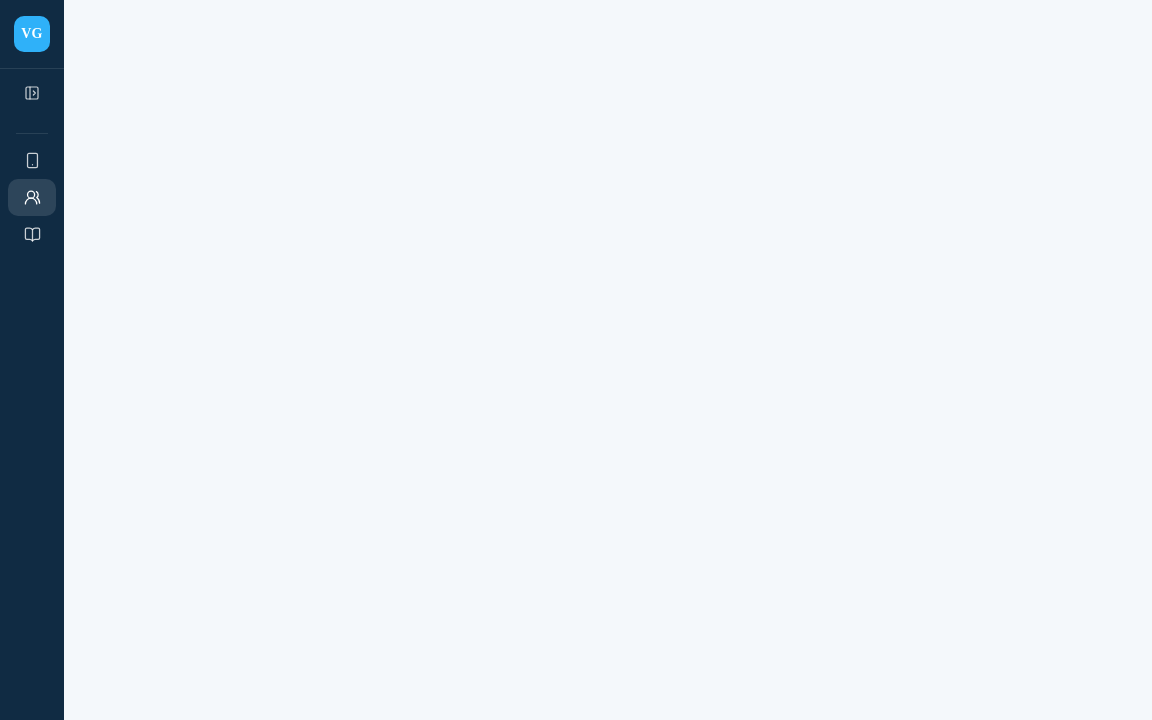
Test: collapsed sidebar — the parent's flyout › closed: no child link anywhere; pressing the parent lists every visible child with its word
Click the button with class "side-nav-parent".
click(32, 198)  # box left=8, top=179, right=56, bottom=216
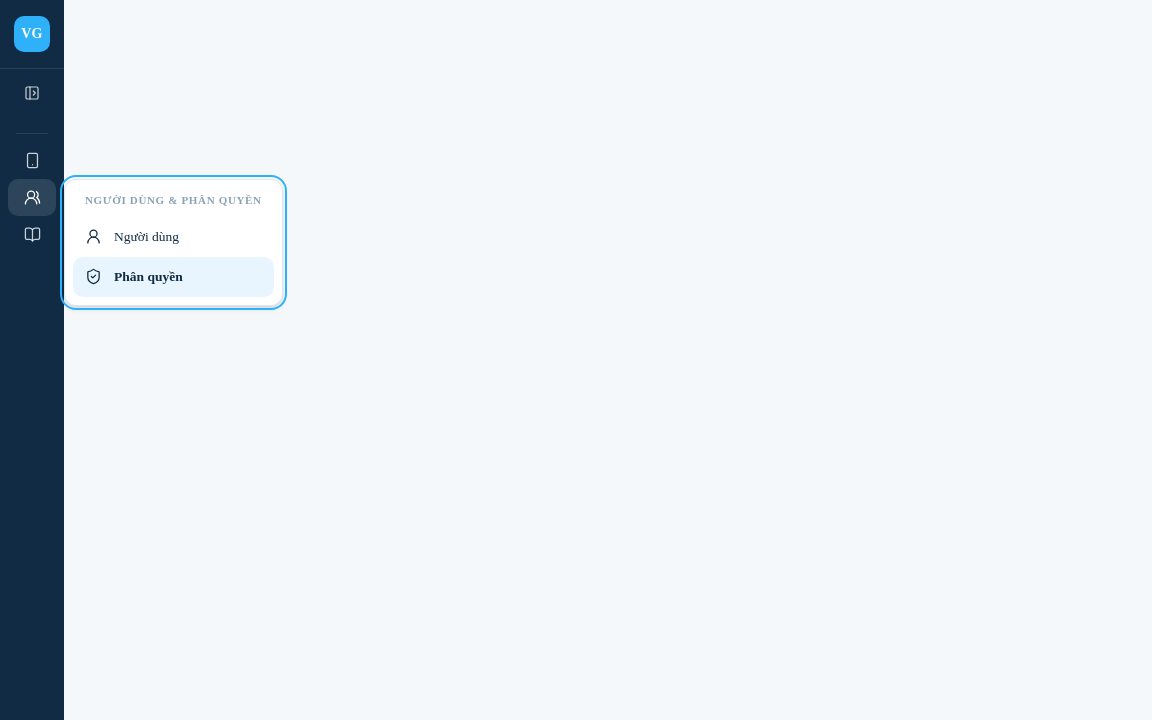
Check: the text with class "side-nav-flyout-title" reads "Người dùng & Phân quyền", box left=85, top=194, right=262, bottom=206
